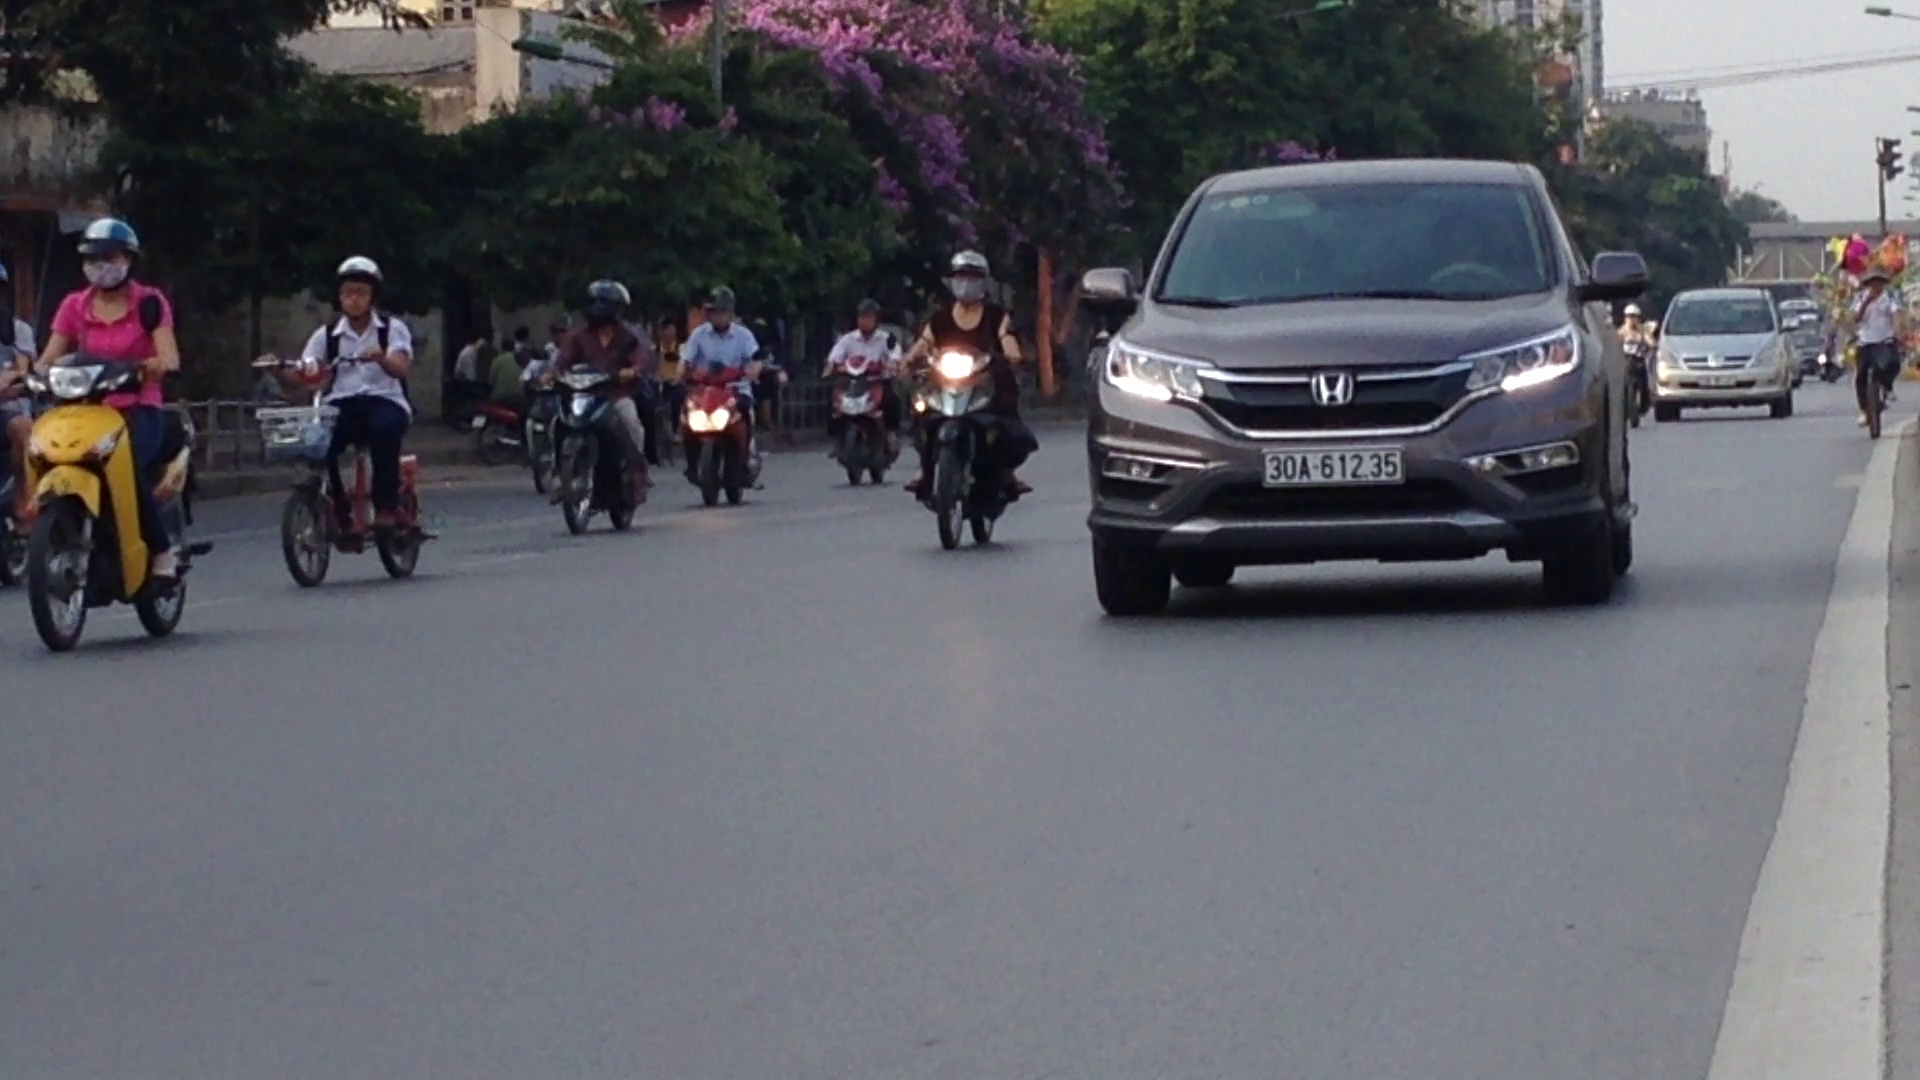vehicle-plate: (1257, 441, 1407, 489)
